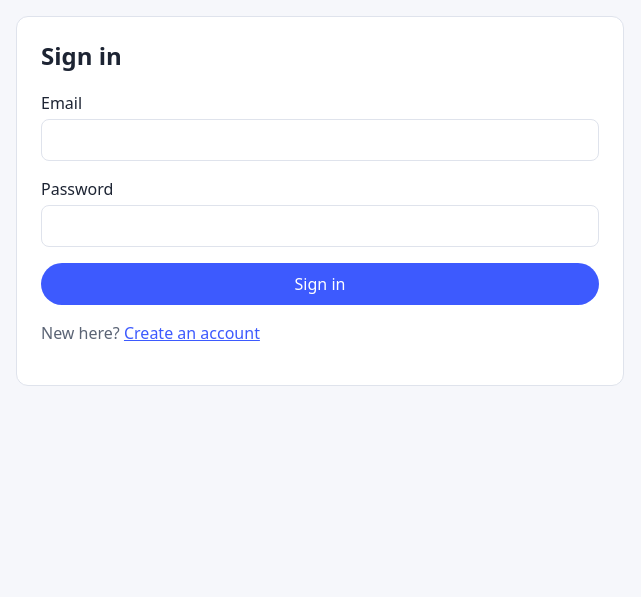
Test case: App auth gate › signs in, then signs out
This screenshot has width=641, height=597.
Type "player@example.com" into the field labelled "Email" at (320, 140), box [41,119,599,161]
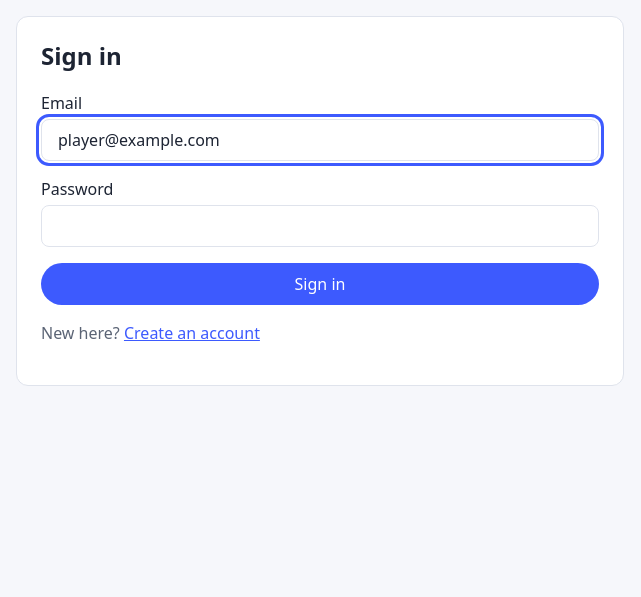
Type "correct horse" into the password field labelled "Password" at (320, 226), box [41,205,599,247]
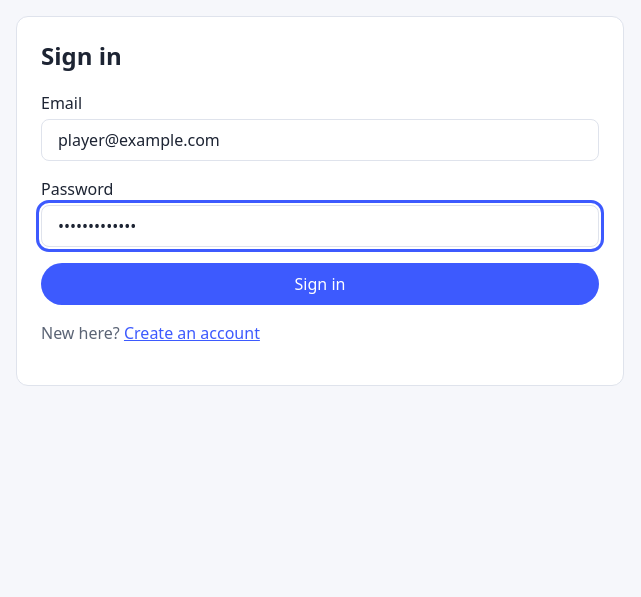
Click the button "Sign in" at (320, 284), box [41,263,599,305]
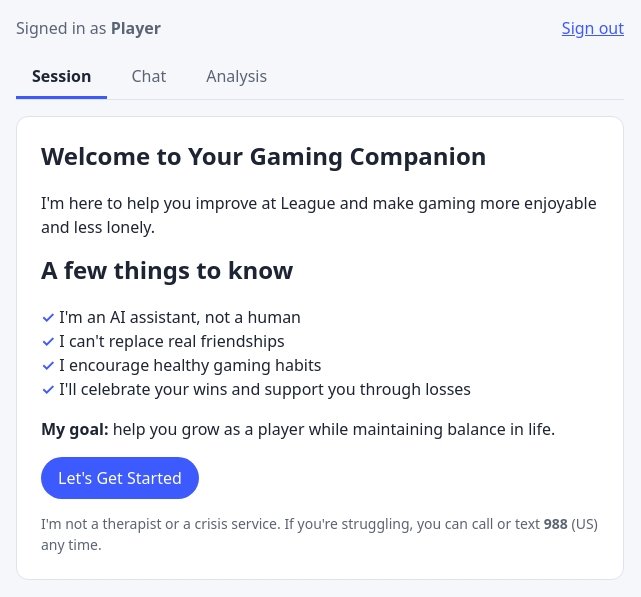
Result: the text "Player" is shown at [111,17,161,39]
Click the button "Sign out" at (593, 28), box [562,16,624,40]
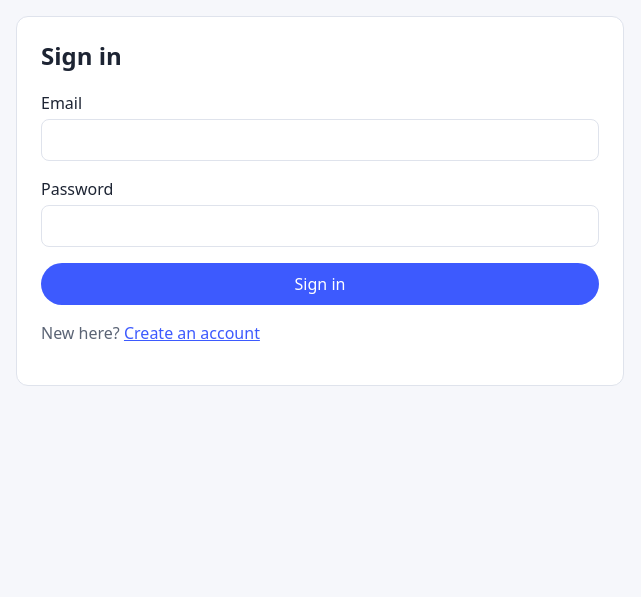
Result: the heading "Sign in" is shown at [41,39,122,72]
